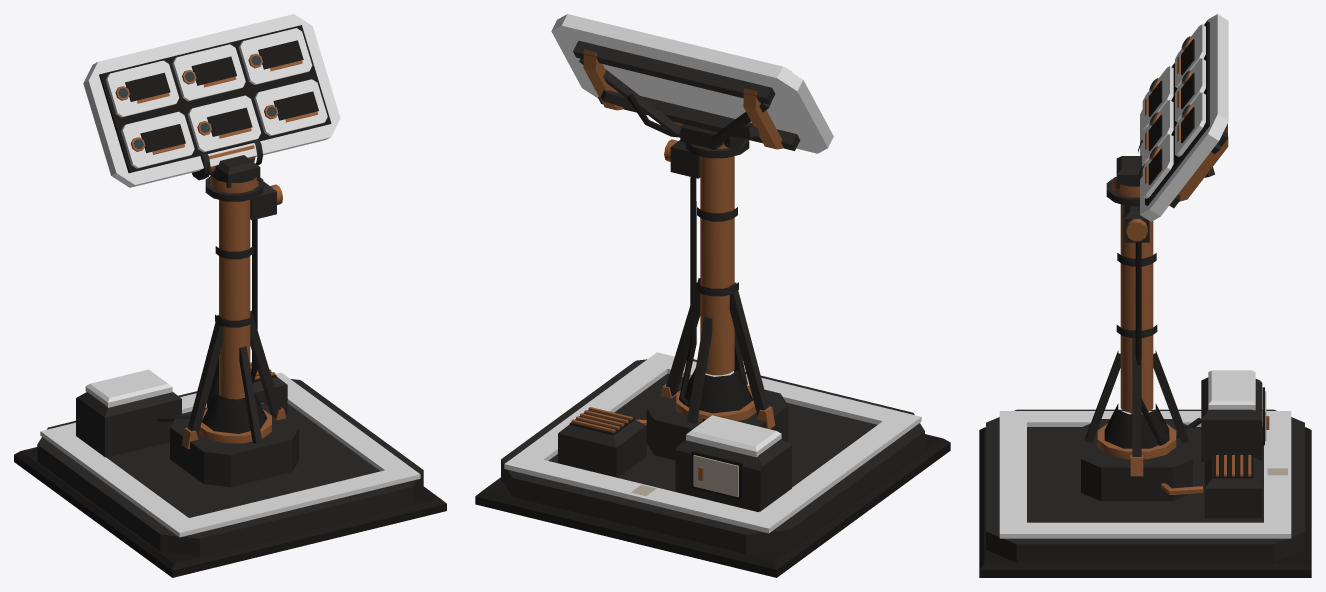
File: str_t1_radar.07b19fba.glb
3 views of the same model, side by side, from view 1: azimuth 30°, elevation 25°; view 2: azimuth 150°, elevation 25°; view 3: azimuth 270°, elevation 25° (orthographic). The views are drawn at different scales.
Visible parts, largest first — view 1: lod0; view 2: lod0; view 3: lod0.
Boxes of the visible parts, x1,y1,x2,y2 form: lod0: [14, 14, 446, 577]; lod0: [475, 14, 950, 577]; lod0: [979, 14, 1311, 577].
Size of what is drawn, in the model's own units: 1.96 by 2.89 by 1.96.
